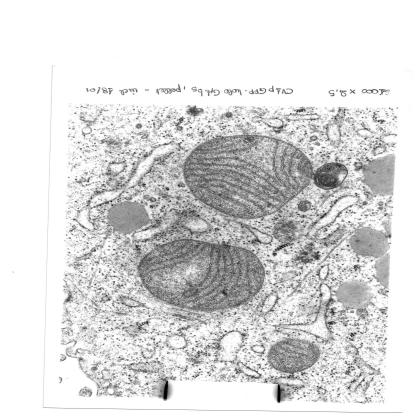mitochondria: (135, 239, 266, 311), (266, 336, 321, 374)
